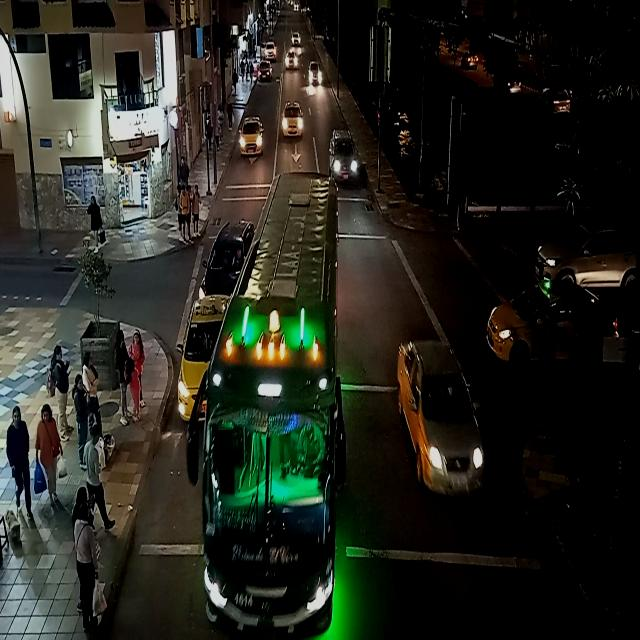BUS: (206, 180, 349, 640)
